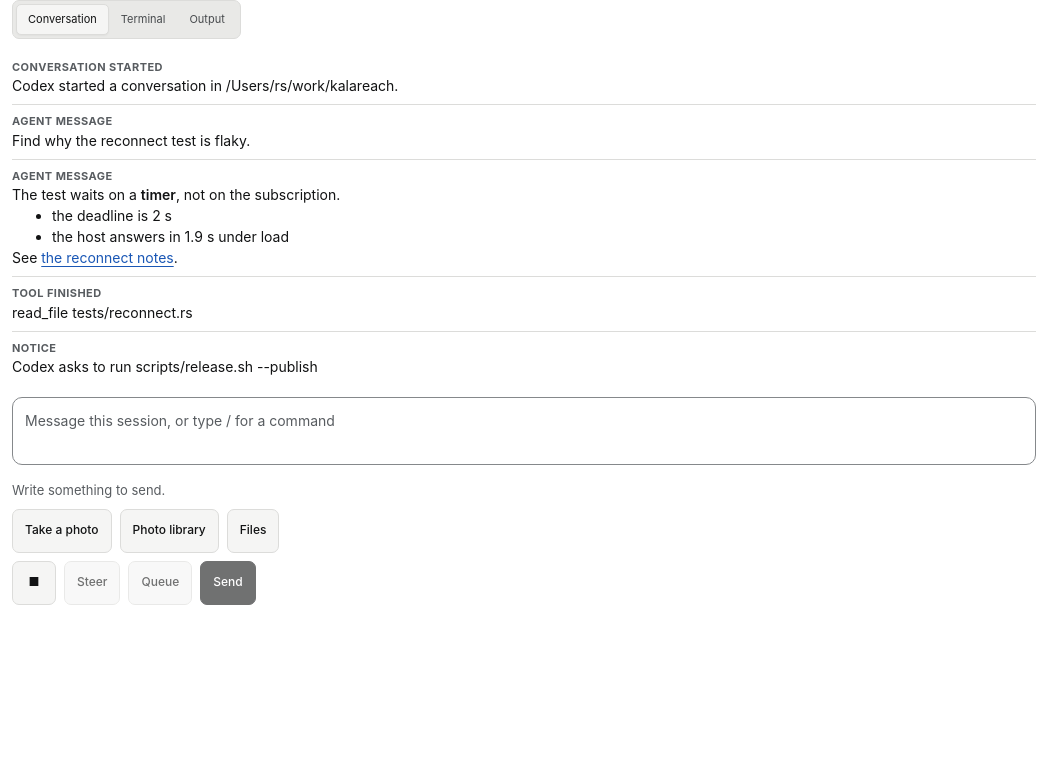
Test: the phone's slash commands (KR-REQ-13.12) › puts the chosen command in the field and closes the list
Expected: the text "Find why the reconnect test is flaky." is shown, [12, 132, 250, 148]
Type "/mo" into the text box labelled "Message this session".
click(524, 431); type("/mo")  # box [12, 397, 1036, 465]
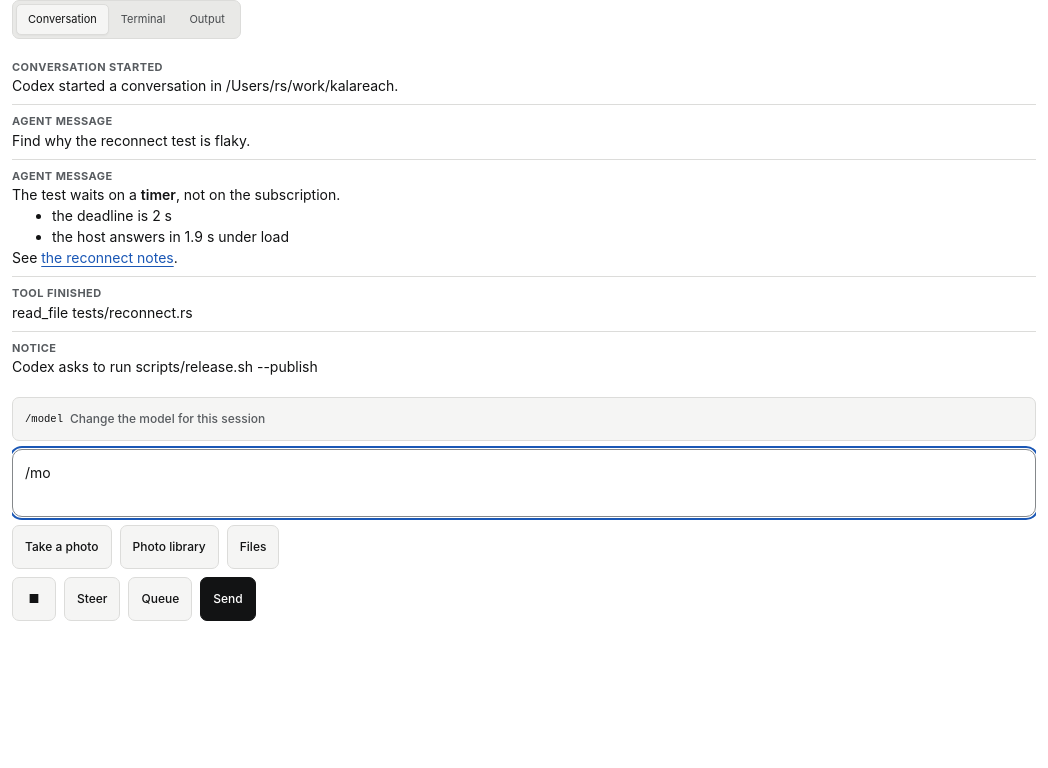
Click the button "/model Change the model for this session".
click(47, 419)  # box [12, 397, 1036, 441]
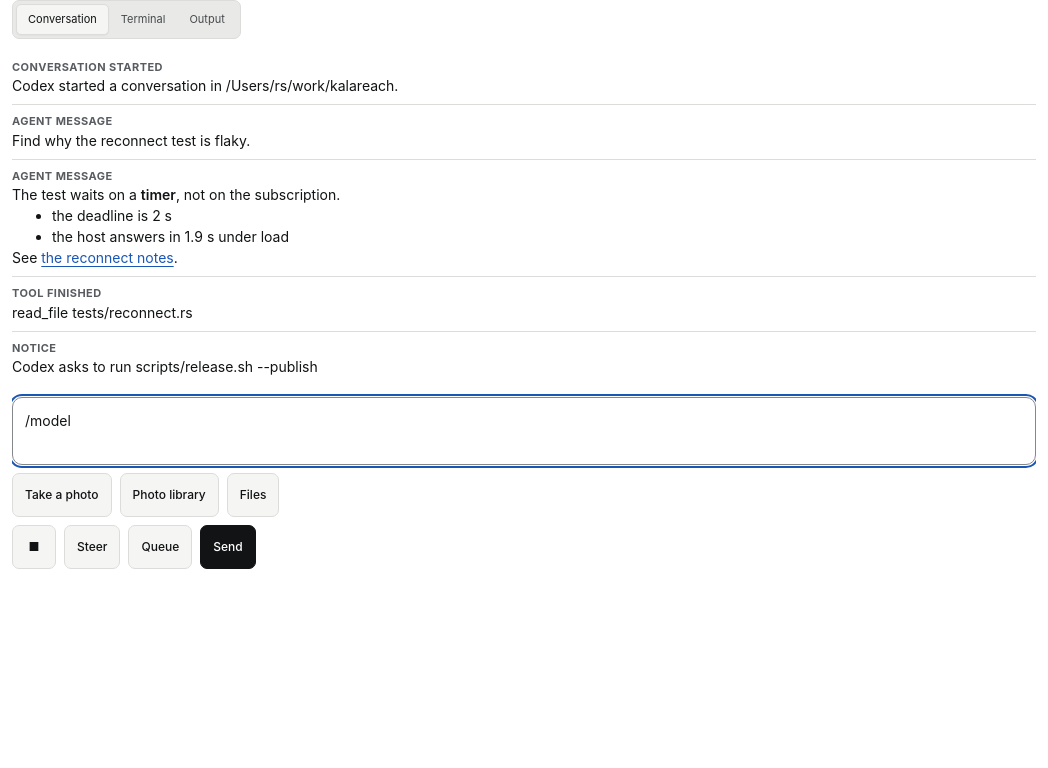
Now the text box named "Message this session" holds "/model ", box [12, 397, 1036, 465]
Now the list with test id "slash-commands" is gone
